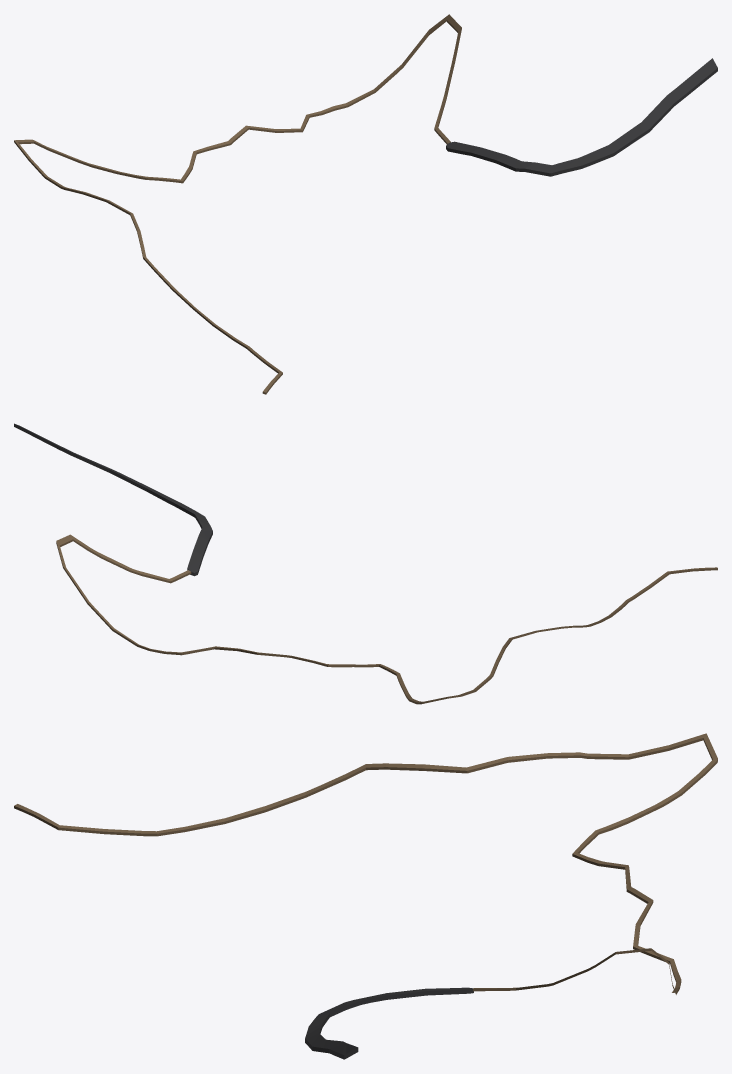
3 views of the same model, one above another, from view 1: azimuth 30°, elevation 25°; view 2: azimuth 150°, elevation 25°; view 3: azimuth 270°, elevation 25° (orthographic). The views are drawn at different scales.
Size of the model in its own units: 220 by 37.73 by 175.
